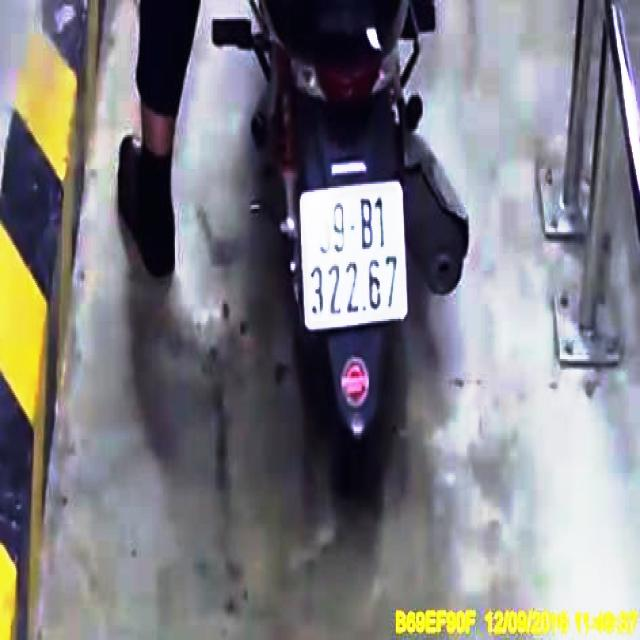license_plate: (301, 185, 408, 330)
